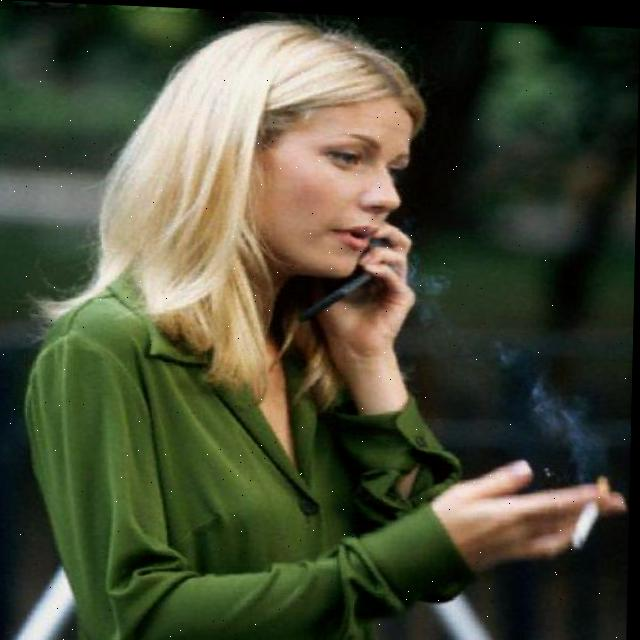cigarette: (571, 469, 612, 545)
